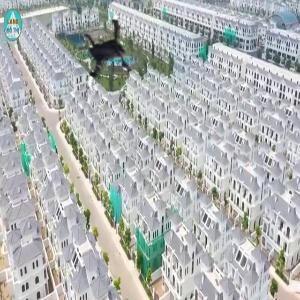drone: (64, 6, 158, 100)
